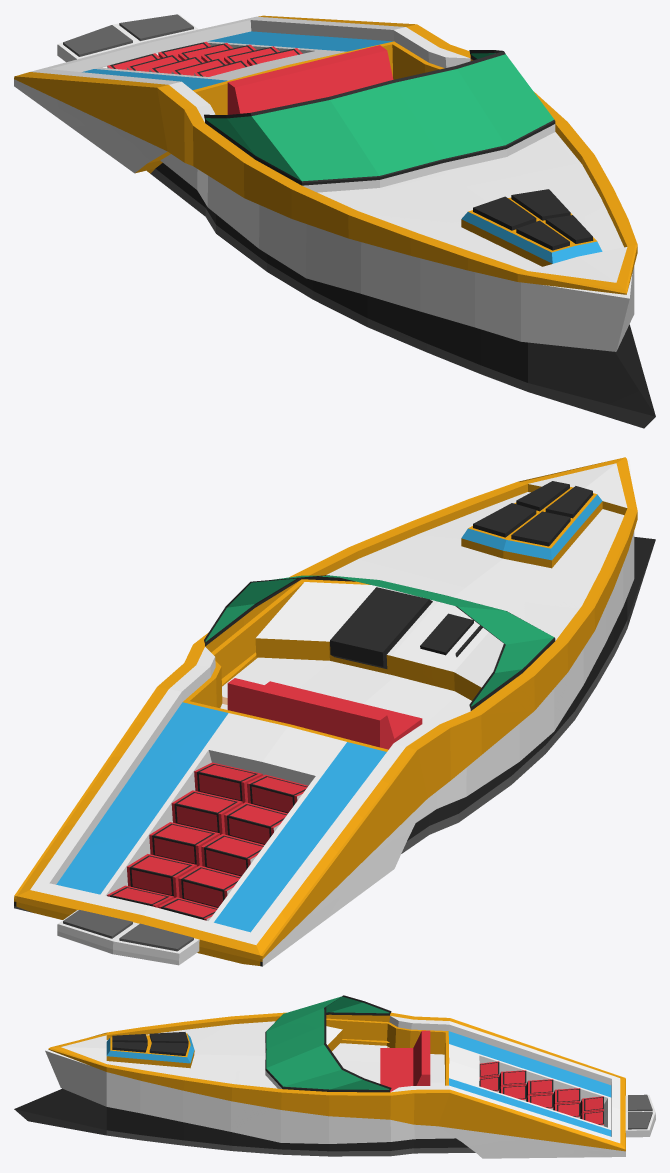
Rendered from Boat_01.glb.
3 renders of one model, top to bottom at view 1: azimuth 30°, elevation 25°; view 2: azimuth 150°, elevation 25°; view 3: azimuth 270°, elevation 25°, orthographic. The views are drawn at different scales.
Parts seen in each view (by area): view 1: Boat 8; view 2: Boat 8; view 3: Boat 8.
Boxes of the visible parts, x1,y1,x2,y2 form: Boat 8: (14, 14, 655, 428); Boat 8: (14, 457, 655, 966); Boat 8: (14, 995, 655, 1158).
Bounding box in the file's own units: 8.74 × 4.7 × 28.3.
1 material, 1 textured.
